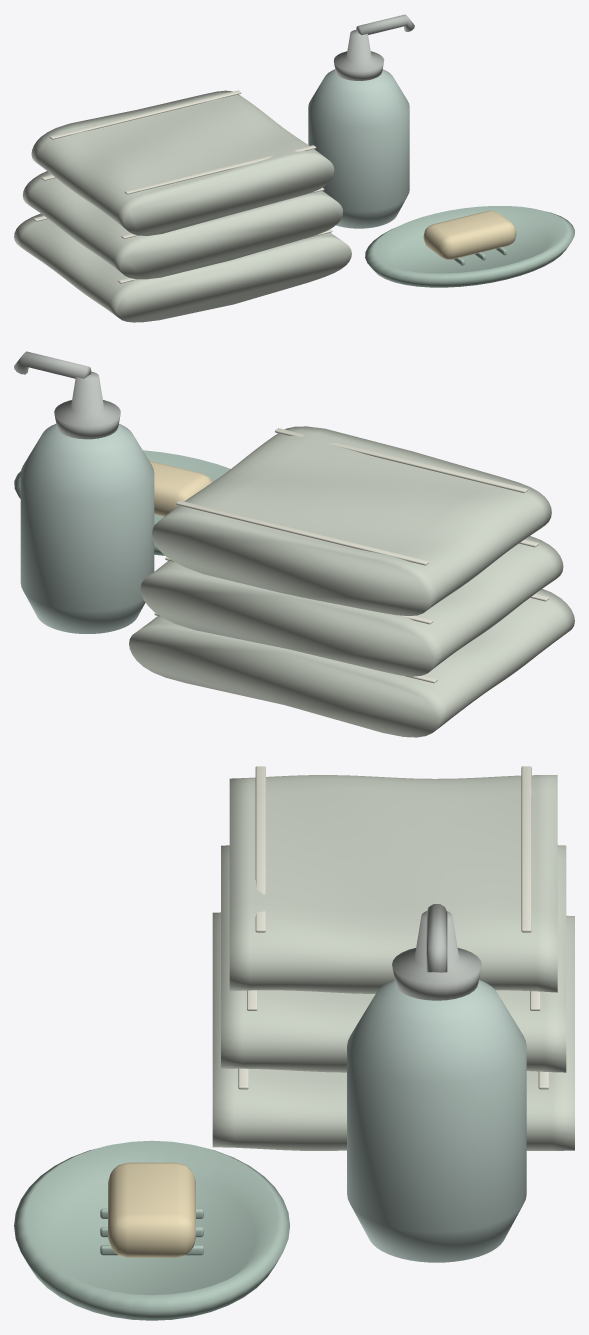
Rendered from arr_bathroom.glb.
3 renders of one model, top to bottom at view 1: azimuth 30°, elevation 25°; view 2: azimuth 150°, elevation 25°; view 3: azimuth 270°, elevation 25°, orthographic. The views are drawn at different scales.
Visible parts, largest first — view 1: arr_bathroom__towel_stack_body, arr_bathroom__soap_pump_body, arr_bathroom__soap_dish_body, arr_bathroom__soap_dish_accent, arr_bathroom__soap_pump_accent, arr_bathroom__towel_stack_accent; view 2: arr_bathroom__towel_stack_body, arr_bathroom__soap_pump_body, arr_bathroom__soap_pump_accent, arr_bathroom__towel_stack_accent, arr_bathroom__soap_dish_accent, arr_bathroom__soap_dish_body; view 3: arr_bathroom__towel_stack_body, arr_bathroom__soap_pump_body, arr_bathroom__soap_dish_body, arr_bathroom__soap_dish_accent, arr_bathroom__soap_pump_accent, arr_bathroom__towel_stack_accent.
Part boxes in pixels (<box>): arr_bathroom__towel_stack_body: <box>14,90,351,322</box>; arr_bathroom__soap_pump_body: <box>308,69,409,228</box>; arr_bathroom__soap_dish_body: <box>365,206,574,287</box>; arr_bathroom__soap_dish_accent: <box>423,210,516,259</box>; arr_bathroom__soap_pump_accent: <box>334,14,414,80</box>; arr_bathroom__towel_stack_accent: <box>33,90,332,283</box>; arr_bathroom__towel_stack_body: <box>129,426,574,737</box>; arr_bathroom__soap_pump_body: <box>20,424,154,633</box>; arr_bathroom__soap_pump_accent: <box>14,351,120,439</box>; arr_bathroom__towel_stack_accent: <box>154,428,549,683</box>; arr_bathroom__soap_dish_accent: <box>149,460,212,516</box>; arr_bathroom__soap_dish_body: <box>14,450,230,555</box>; arr_bathroom__towel_stack_body: <box>212,775,574,1150</box>; arr_bathroom__soap_pump_body: <box>347,979,526,1262</box>; arr_bathroom__soap_dish_body: <box>14,1140,289,1320</box>; arr_bathroom__soap_dish_accent: <box>108,1162,195,1257</box>; arr_bathroom__soap_pump_accent: <box>392,904,481,1000</box>; arr_bathroom__towel_stack_accent: <box>238,766,548,1089</box>.
Bounding box in the file's own units: 0.516 × 0.2107 × 0.325.
